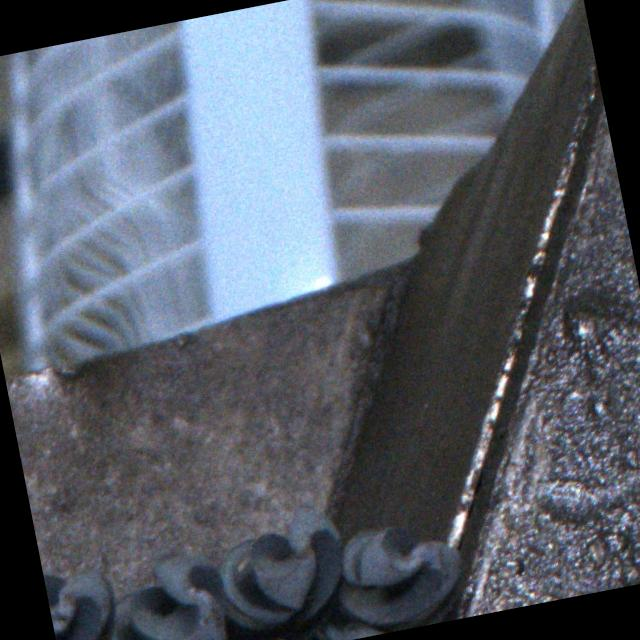tool_b: (320, 514, 471, 640), (210, 517, 356, 640), (96, 547, 240, 640), (43, 561, 126, 640)
